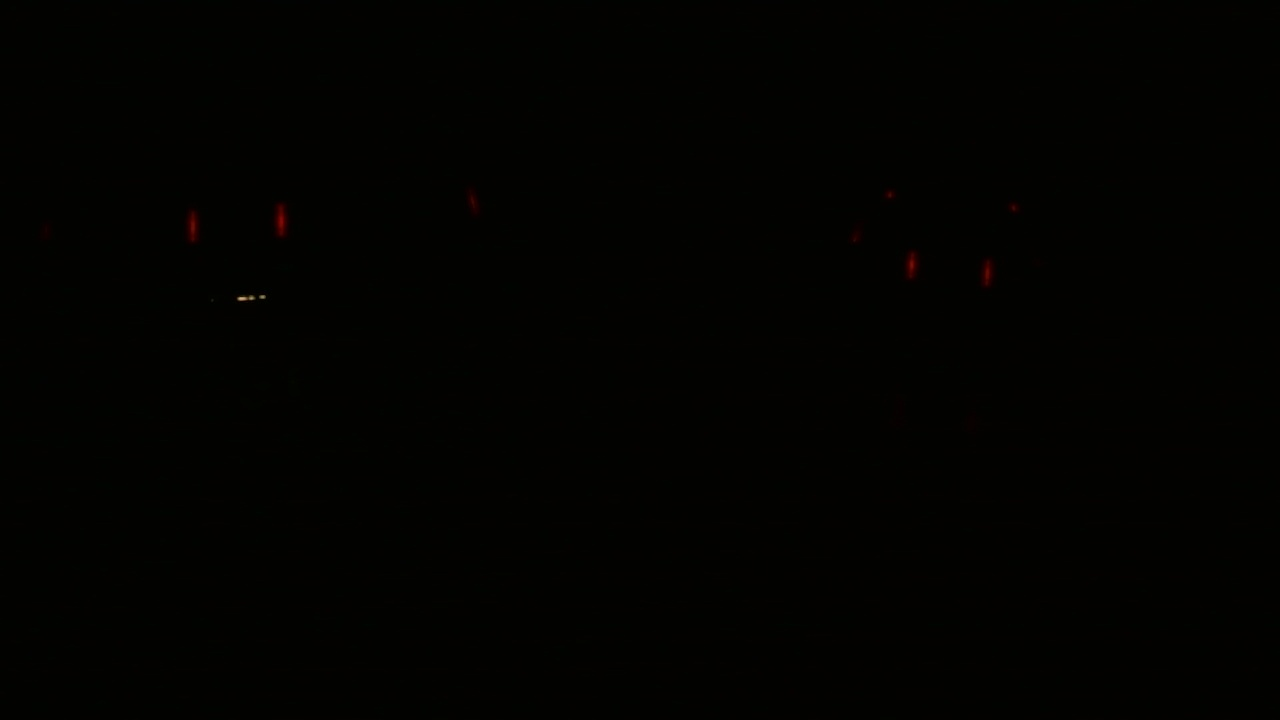pair1: (177, 189, 302, 258)
pair2: (897, 249, 1000, 297)
